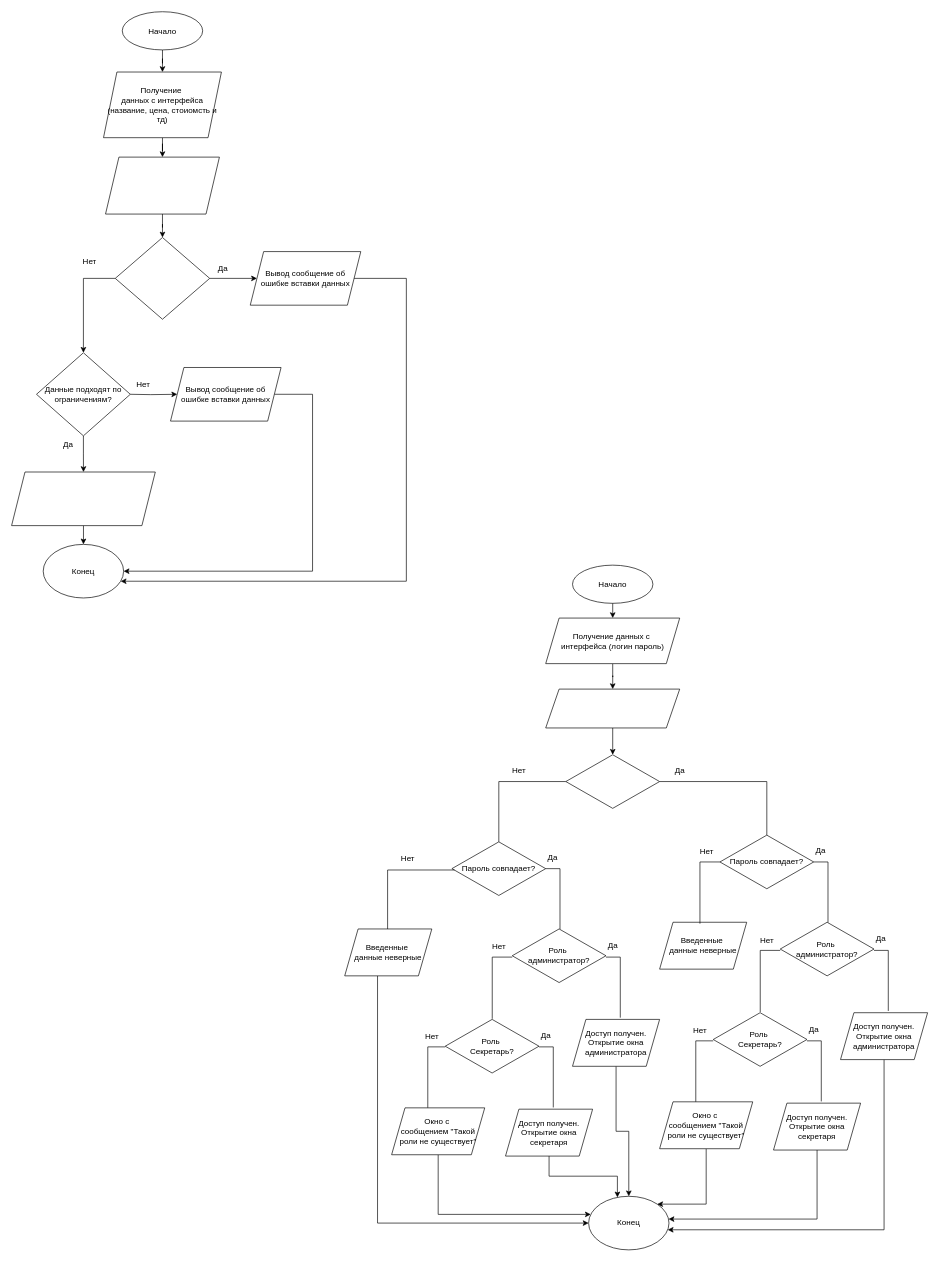
Image size: 940x1262. Some labels were removed from this diagram. The shapes that lost their labels are listed below. From the top down, each one's centre as x and y in pixels, then its label:
point 162,185: Создание объекта с введенными данными
point 162,278: Одно из полей пустое?
point 83,498: Добавление данных в лист и бд
point 612,708: Обращение к базе данных
point 612,781: Логины совпадает?
